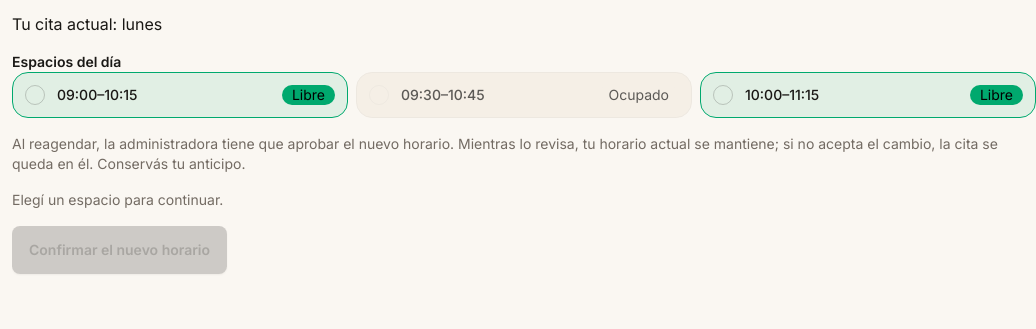
Test: RescheduleForm › si la acción lanza muestra el mensaje genérico, sin romper la pantalla
This screenshot has width=1036, height=329.
What coordinates should you click on to do the following:
click the radio button labelled "09:00–10:15 Libre"
I would click on:
 (35, 95)
Its box is [25,85,45,105].
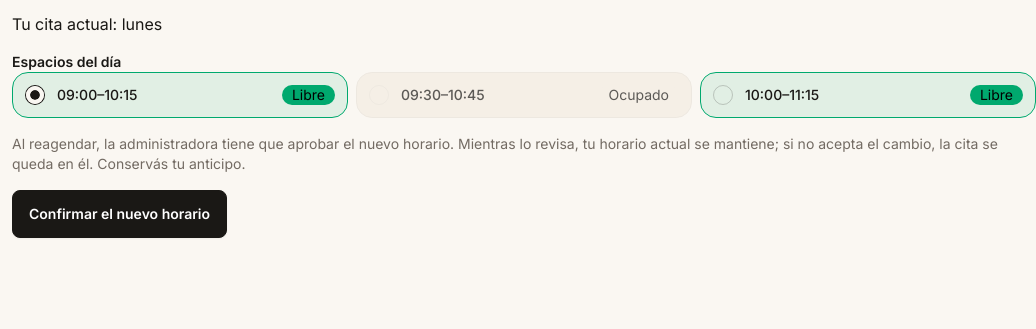
What coordinates should you click on to do the following:
click the button "Confirmar el nuevo horario"
I would click on:
 (120, 214)
Its box is [12,190,227,238].
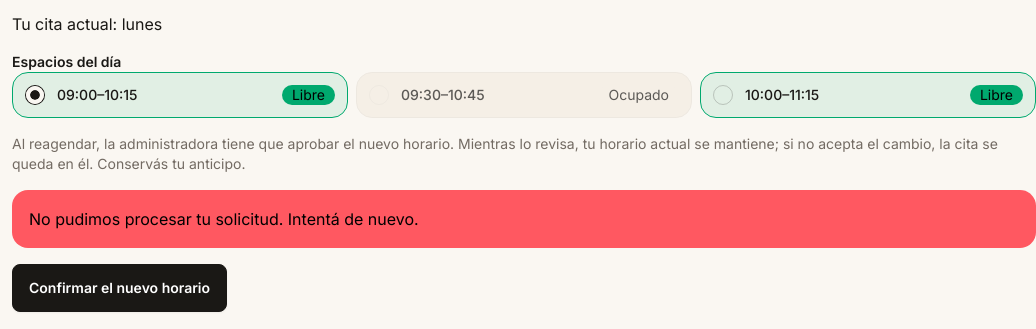
Expected: the message reads "No pudimos procesar tu solicitud. Intentá de nuevo.", [29,209,419,229]
